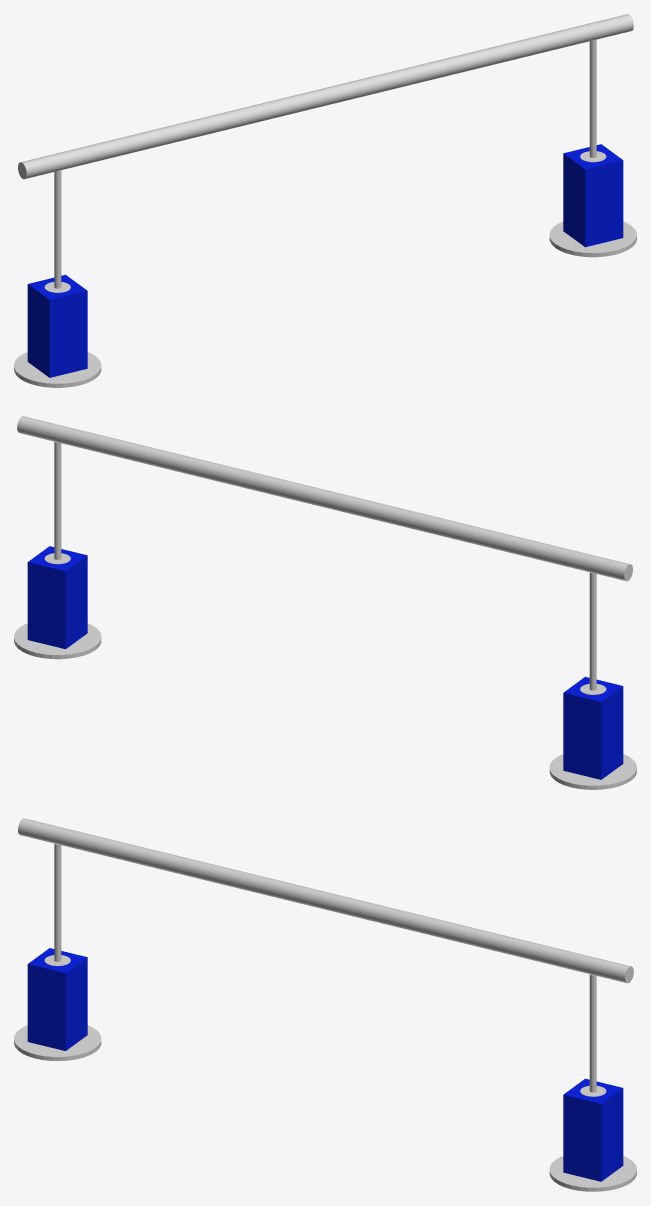
The model's file is Walking_Pipe.fbx.
3 renders of one model, top to bottom at view 1: azimuth 30°, elevation 25°; view 2: azimuth 150°, elevation 25°; view 3: azimuth 330°, elevation 25°, orthographic.
Parts seen in each view (by area): view 1: Cylinder.003, Cube, Cylinder.006; view 2: Cylinder.003, Cube, Cylinder.006; view 3: Cylinder.003, Cube, Cylinder.006.
Part boxes in pixels (x1=…): Cylinder.003: x1=18, y1=14, x2=633, y2=292; Cube: x1=27, y1=144, x2=623, y2=377; Cylinder.006: x1=14, y1=221, x2=636, y2=387; Cylinder.003: x1=17, y1=416, x2=632, y2=694; Cube: x1=27, y1=546, x2=623, y2=779; Cylinder.006: x1=14, y1=623, x2=636, y2=789; Cylinder.003: x1=18, y1=818, x2=633, y2=1096; Cube: x1=27, y1=948, x2=623, y2=1181; Cylinder.006: x1=14, y1=1025, x2=636, y2=1191.
Bounding box in the file's own units: 806 × 271 × 100.
